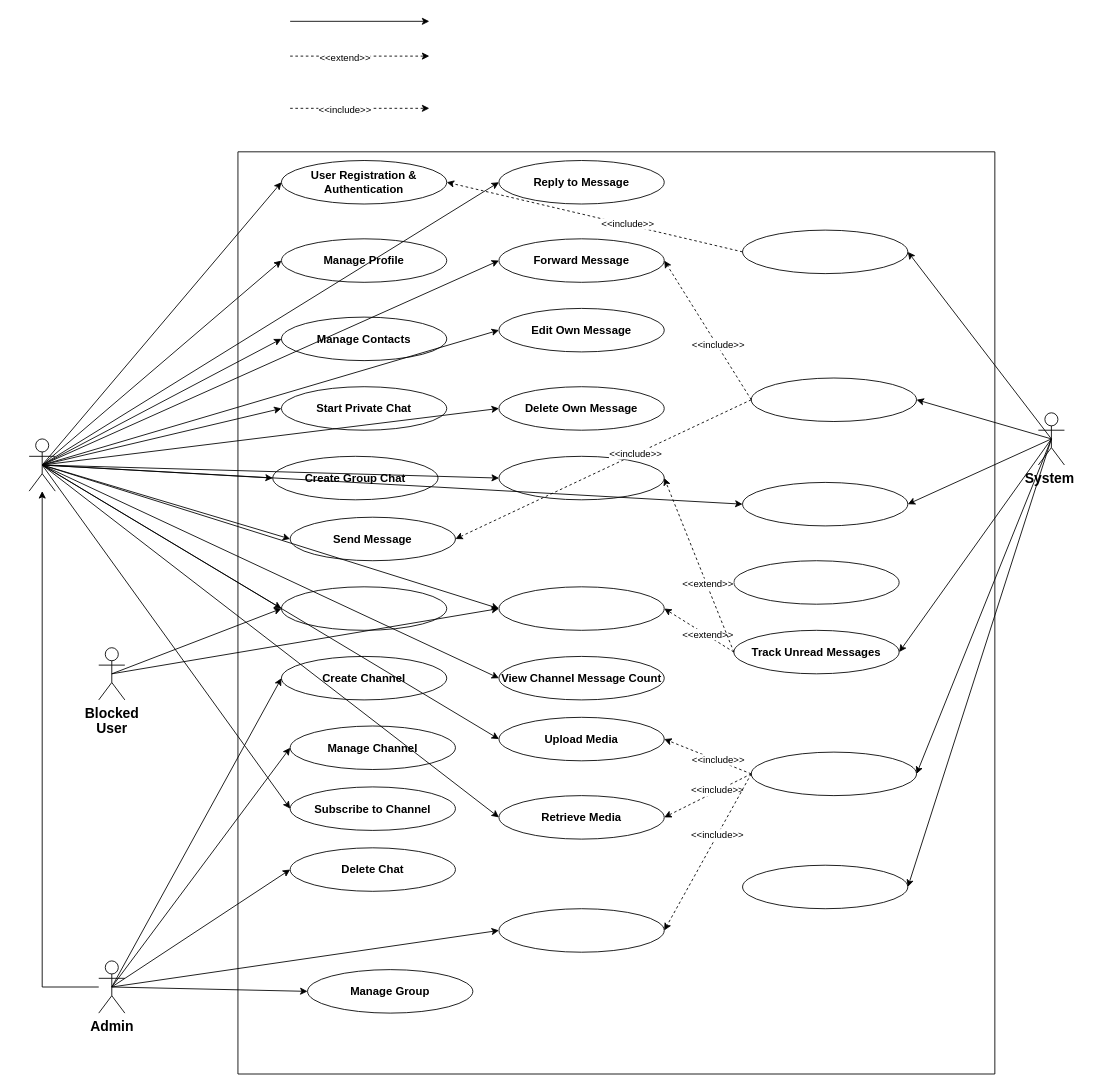
Image size: 1093x1089. Some labels were removed from this diagram. The shapes that lost their labels are listed below. From the top down, each one's centre as x and y in pixels, then its label:
At (x=825, y=251): "Authenticate User".
At (x=833, y=399): "Send Push Notification".
At (x=41, y=464): "Registered User".
At (x=581, y=477): "Delete Any Message".
At (x=825, y=504): "Synchronize Message History".
At (x=816, y=582): "Configure Privacy Settings".
At (x=364, y=608): "Leave Group".
At (x=581, y=608): "Receive Message".
At (x=833, y=773): "Store Media".
At (x=825, y=886): "Enforce Blocked User Restrictions".
At (x=581, y=930): "Generate Thumbnails".
